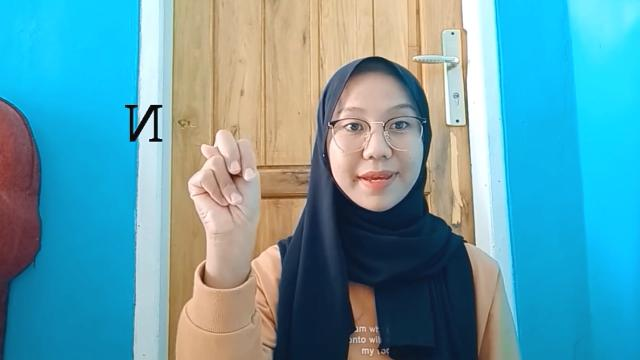N: (188, 128, 264, 236)
